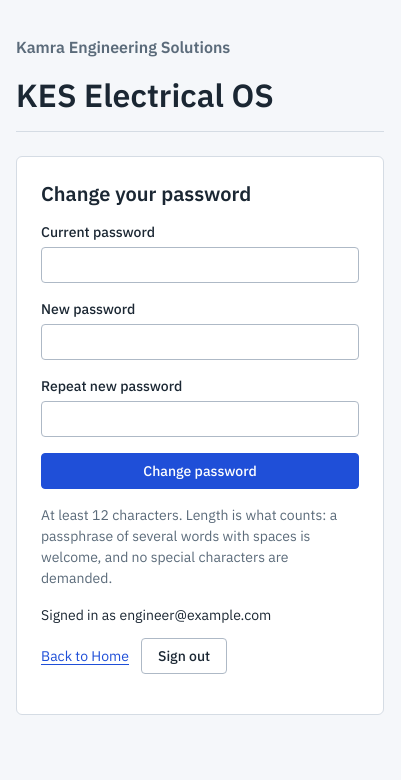
ChangePasswordPage › refuses the first password / too short / too short before anything is sent
The image size is (401, 780).
Type "the first password" into the password field labelled "Current password" at (200, 265), box [41,247,359,283]
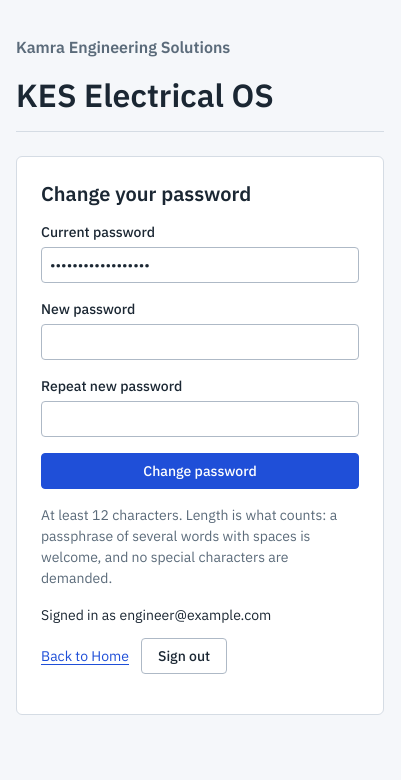
Type "too short" into the password field labelled "New password" at (200, 342), box [41,324,359,360]
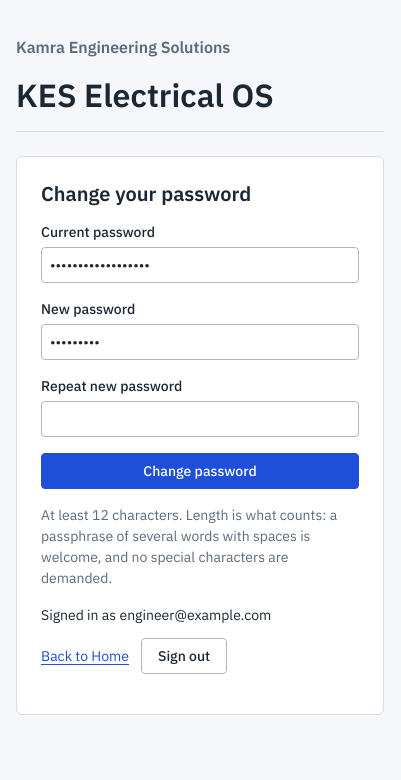
Type "too short" into the password field labelled "Repeat new password" at (200, 419), box [41,401,359,437]
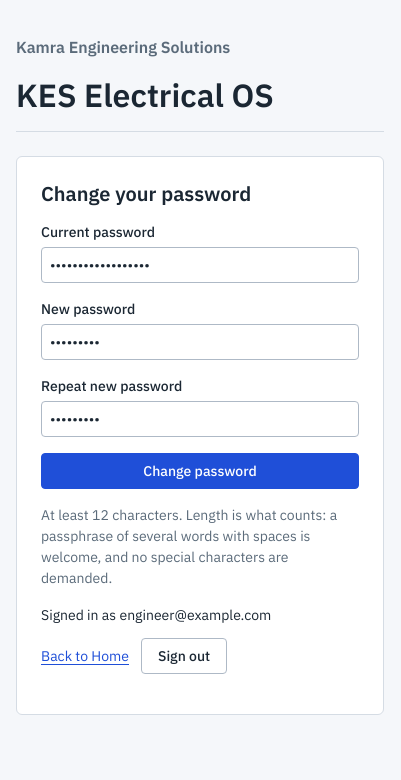
Click the button "Change password" at (200, 471), box [41,453,359,489]
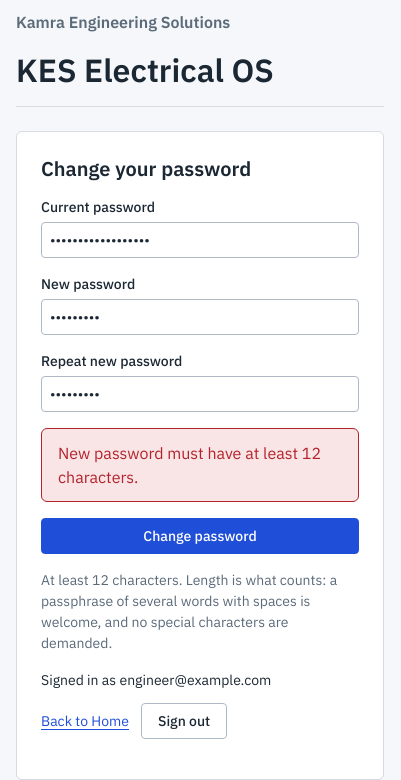
Now the message reads "New password must have at least 12 characters.", box [58,443,321,487]
